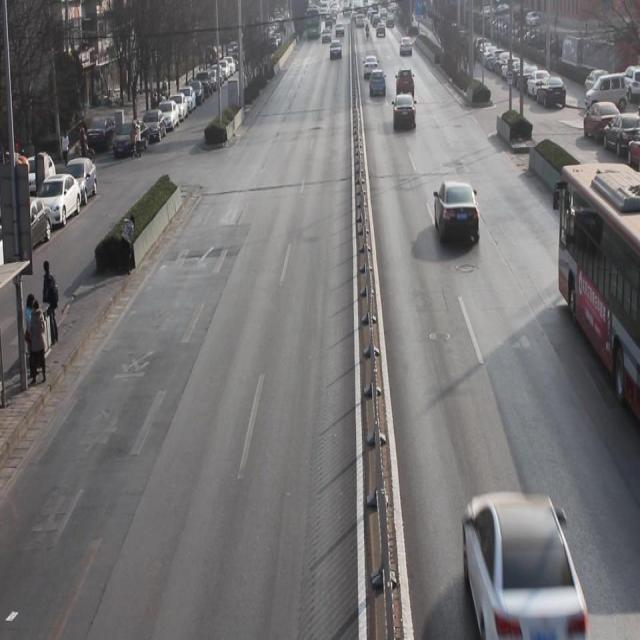car: (462, 494, 586, 632), (433, 180, 482, 248), (392, 96, 417, 134), (395, 70, 415, 96), (369, 69, 386, 98)
van: (558, 167, 640, 416)
